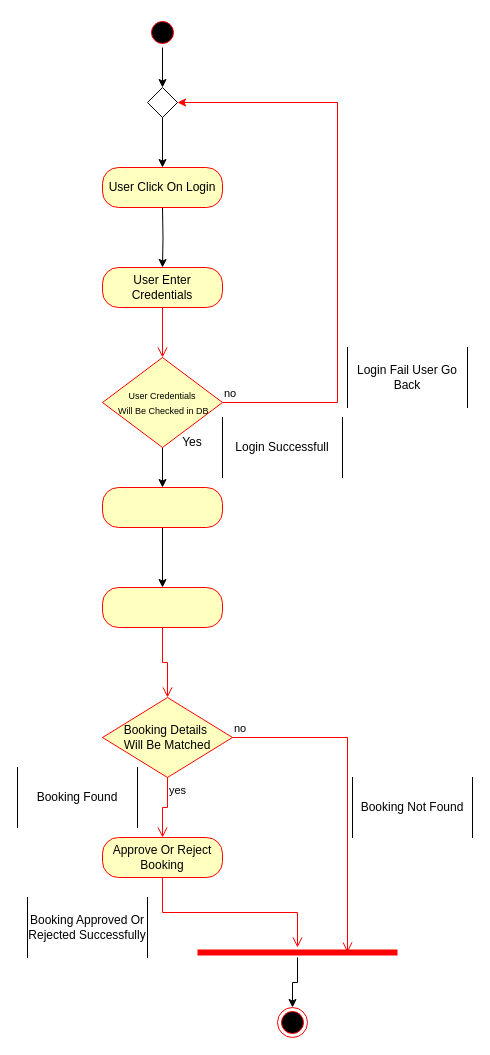
This 490x1055 diagram has some shape labels left out. Here are the shapes that lost their labels. From the top down, the centre of each, then its label:
(x=162, y=507): Click On Approve / Reject Booking
(x=162, y=607): Enter Booking Details
